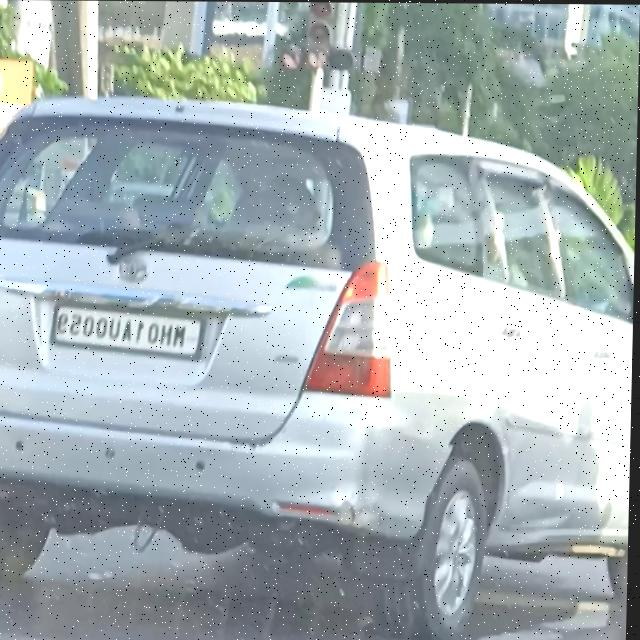plate: (53, 303, 208, 357)
